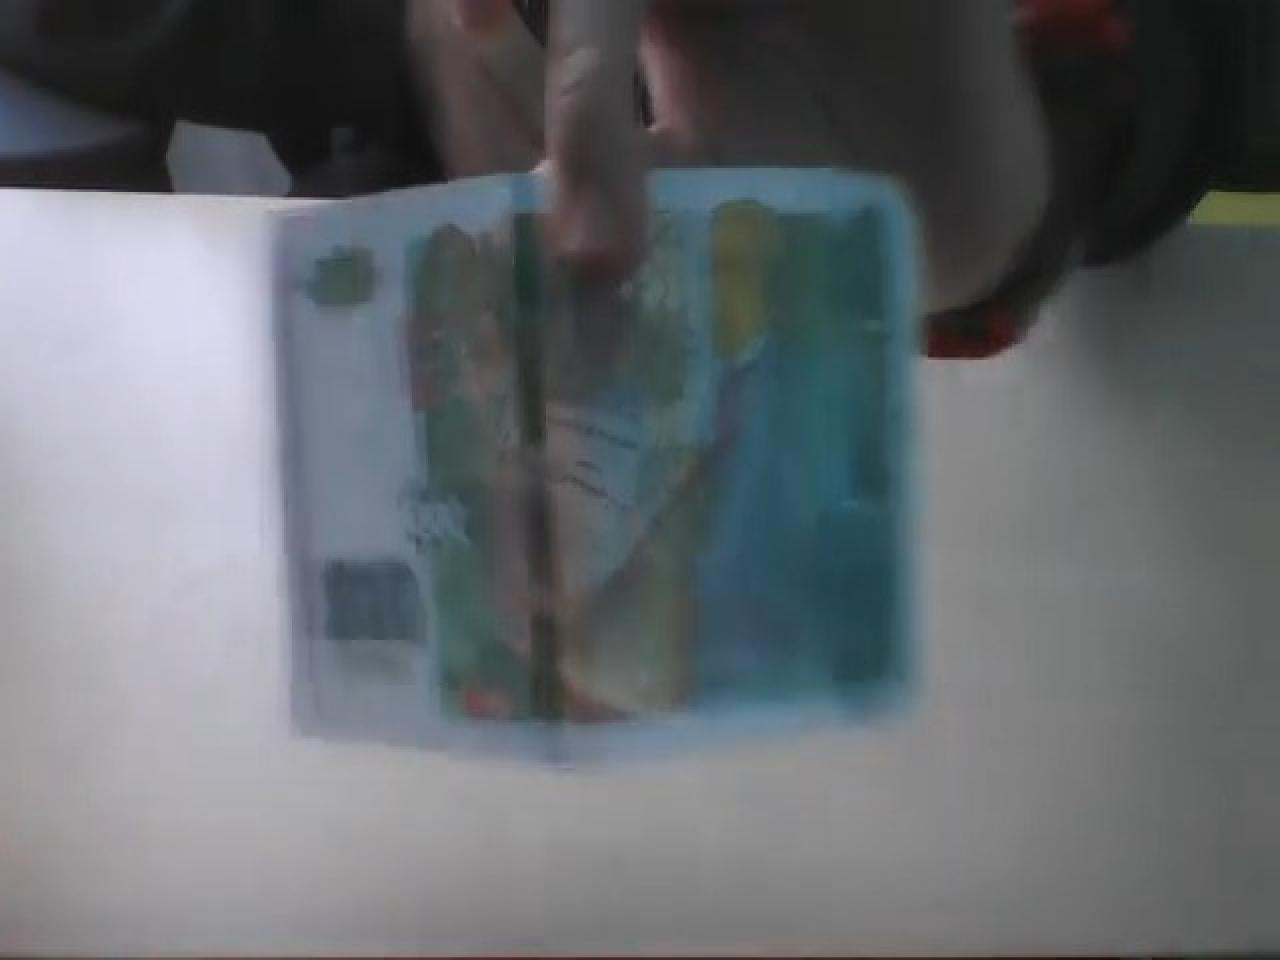100leva: (276, 160, 926, 760)
